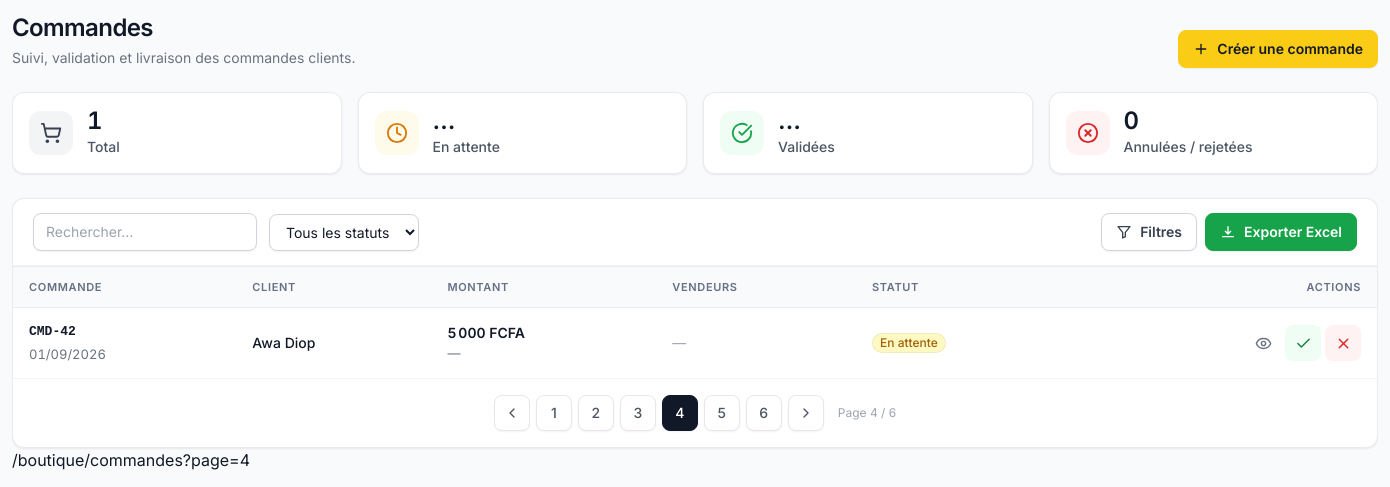
Test: Commandes : navigation Retour et contexte de liste › recherche puis filtre : l’URL est mise à jour et la page revient à 1
Expected: the text "CMD-42" is shown, [29,324,76,339]
Select "Livrée" in the dropdown named "Filtrer par statut". click: (344, 232)
box: [269,214,419,250]
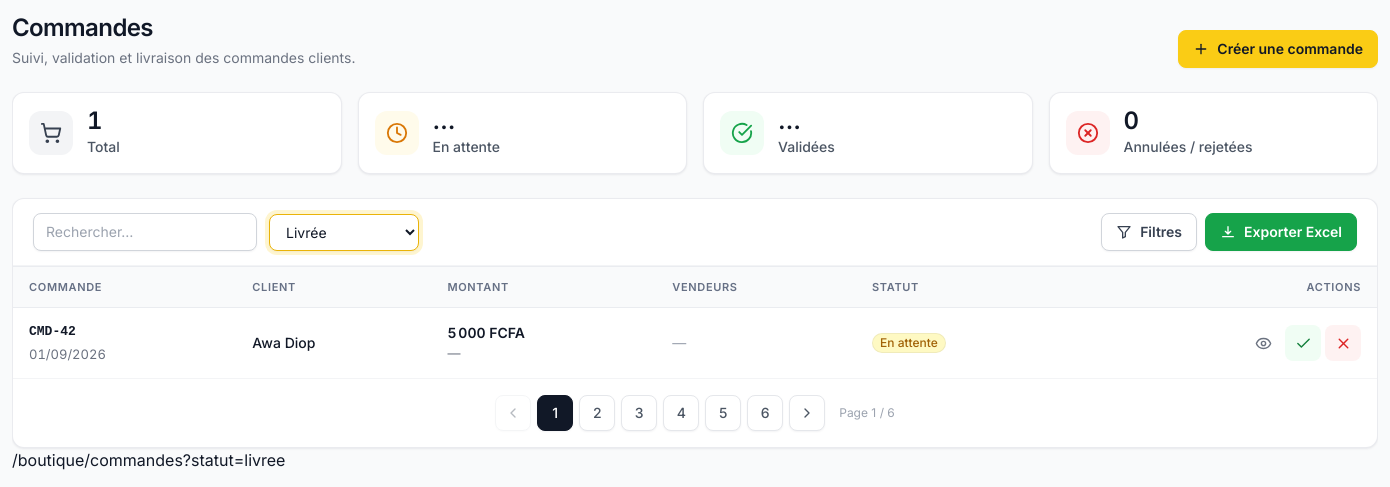
Now the text with test id "adresse" reads "/boutique/commandes?statut=livree", box [12,450,286,470]
Type "Awa" into the field named "Rechercher une commande". click: (145, 232)
box: [33,213,257,251]
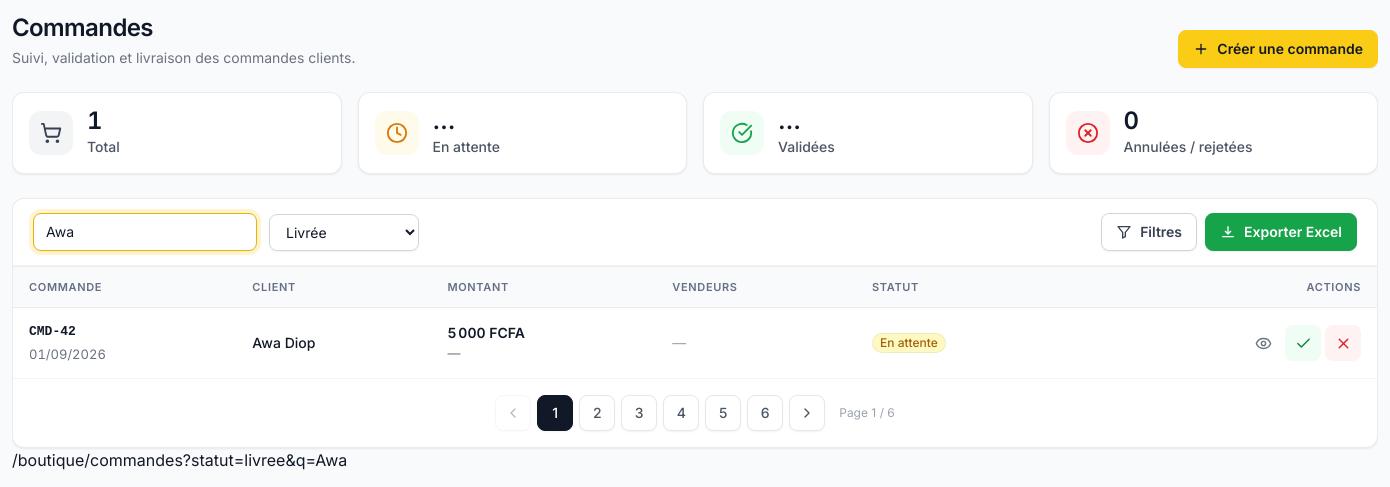
Now the text with test id "adresse" reads "/boutique/commandes?statut=livree&q=Awa", box [12,450,347,470]
